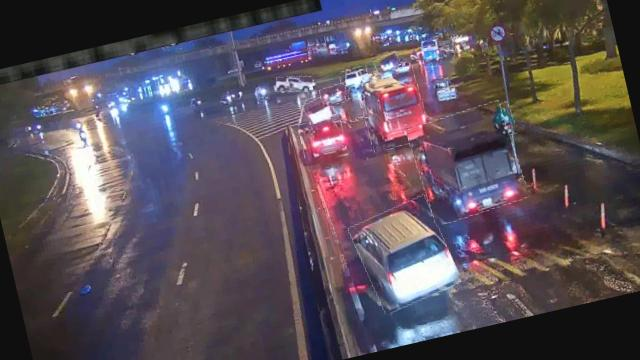Bike: (490, 102, 518, 138)
Bus: (355, 66, 431, 154)
Car: (350, 196, 460, 314), (297, 114, 349, 165), (304, 94, 338, 126), (275, 71, 315, 97), (340, 66, 370, 90), (319, 82, 349, 106), (373, 52, 402, 76)
Truck: (406, 101, 528, 226)
